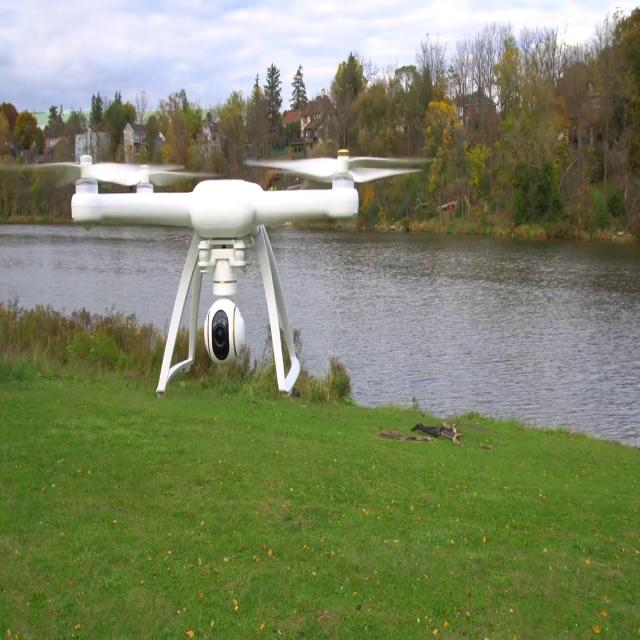drone: (36, 132, 437, 413)
